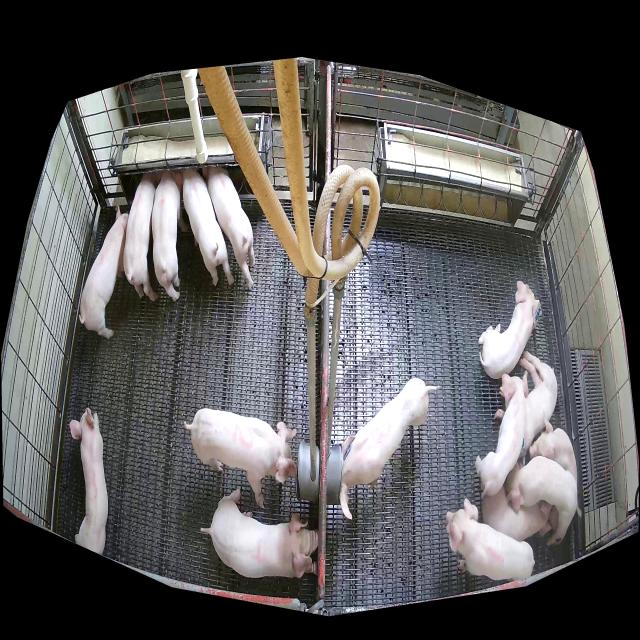pig: (340, 377, 442, 519), (184, 408, 297, 508), (200, 490, 318, 578), (446, 498, 534, 581), (475, 371, 530, 498), (174, 170, 234, 286), (504, 456, 582, 545), (79, 205, 129, 339), (202, 166, 255, 287), (479, 280, 543, 377), (70, 407, 108, 554), (123, 172, 160, 301), (152, 170, 186, 302), (519, 351, 557, 458), (482, 486, 552, 542), (529, 412, 577, 485)
